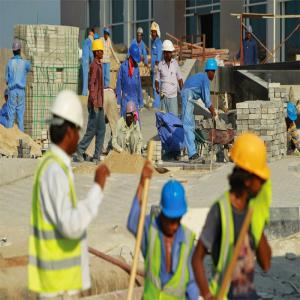blue: (161, 181, 189, 237), (205, 58, 218, 83), (128, 45, 142, 68), (285, 104, 297, 128), (103, 25, 112, 41)
white: (50, 90, 85, 157), (162, 40, 176, 63), (138, 29, 145, 43)
yellow: (231, 130, 271, 202), (92, 40, 105, 62), (151, 24, 159, 40)
